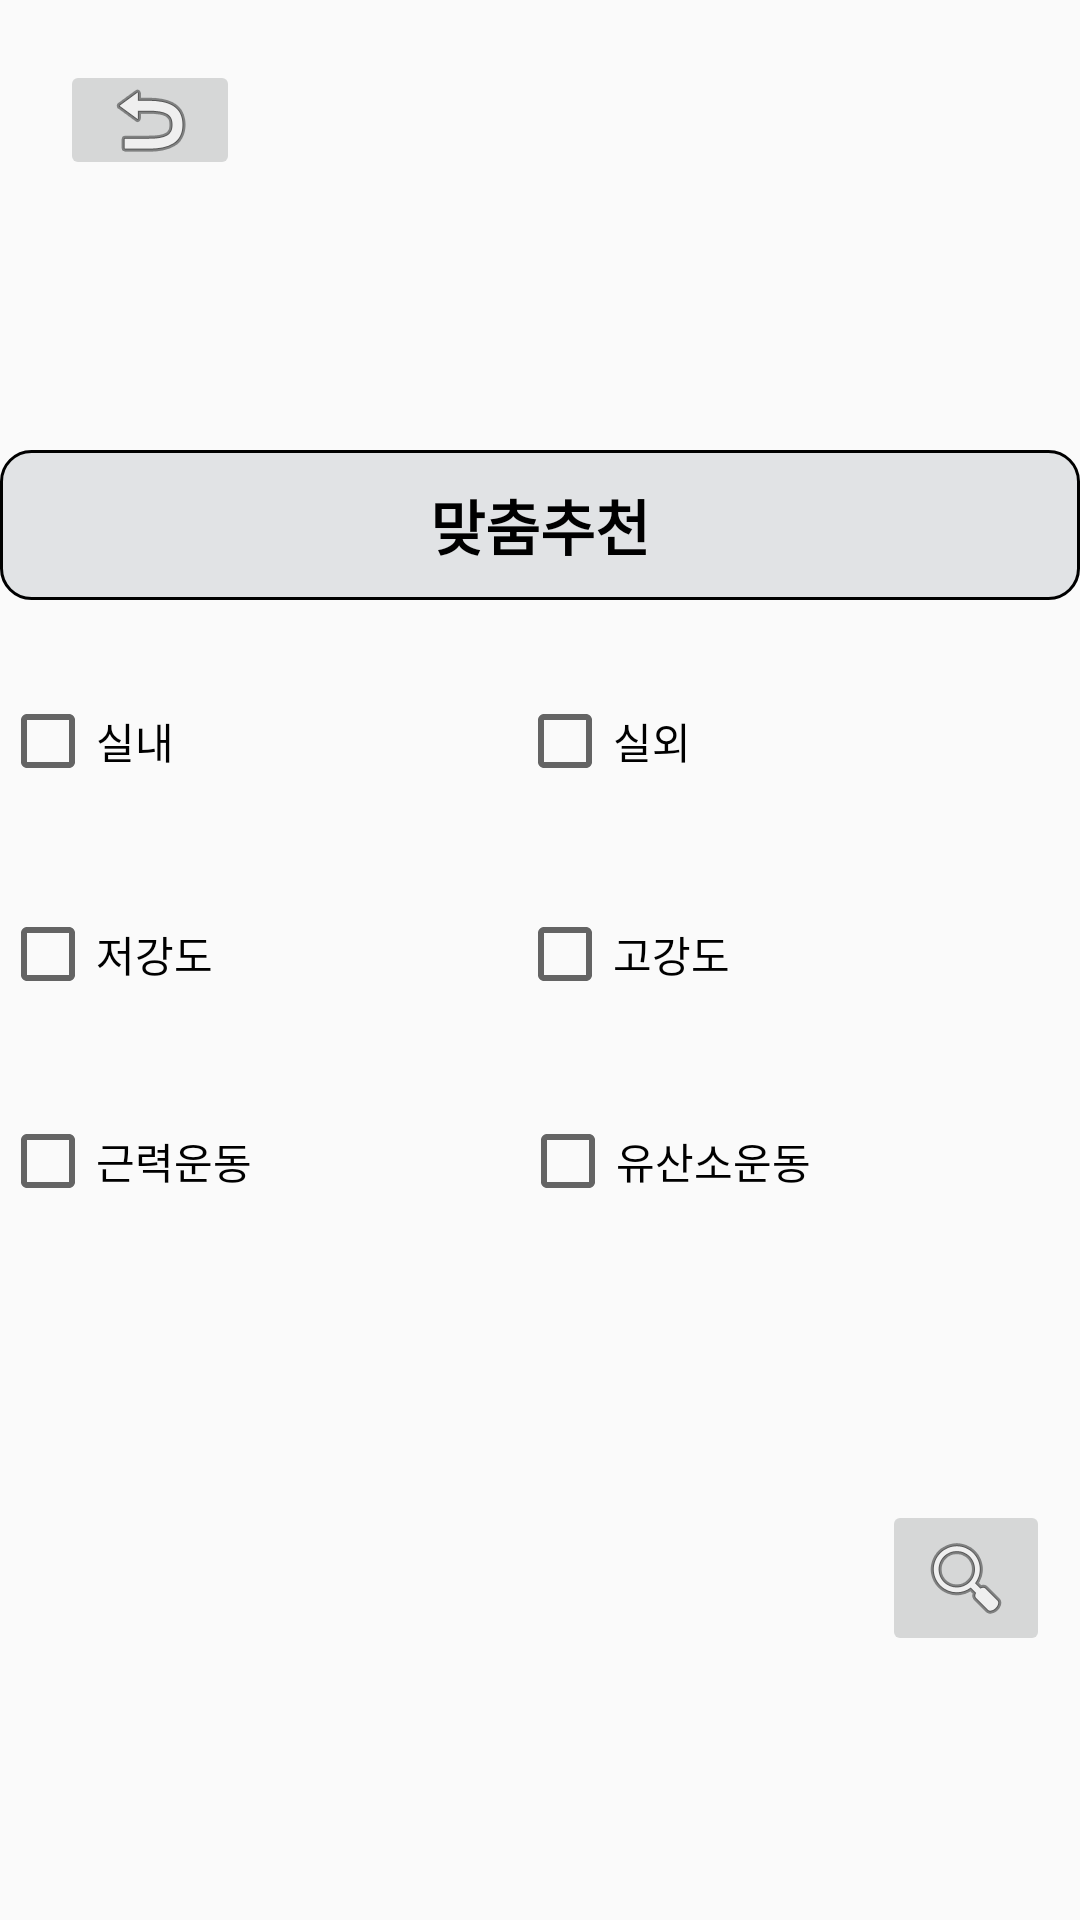

Where to tap for icons on this 1080 × 1920 app screen, as (x,y):
revert: (150,120)
search: (966,1578)
